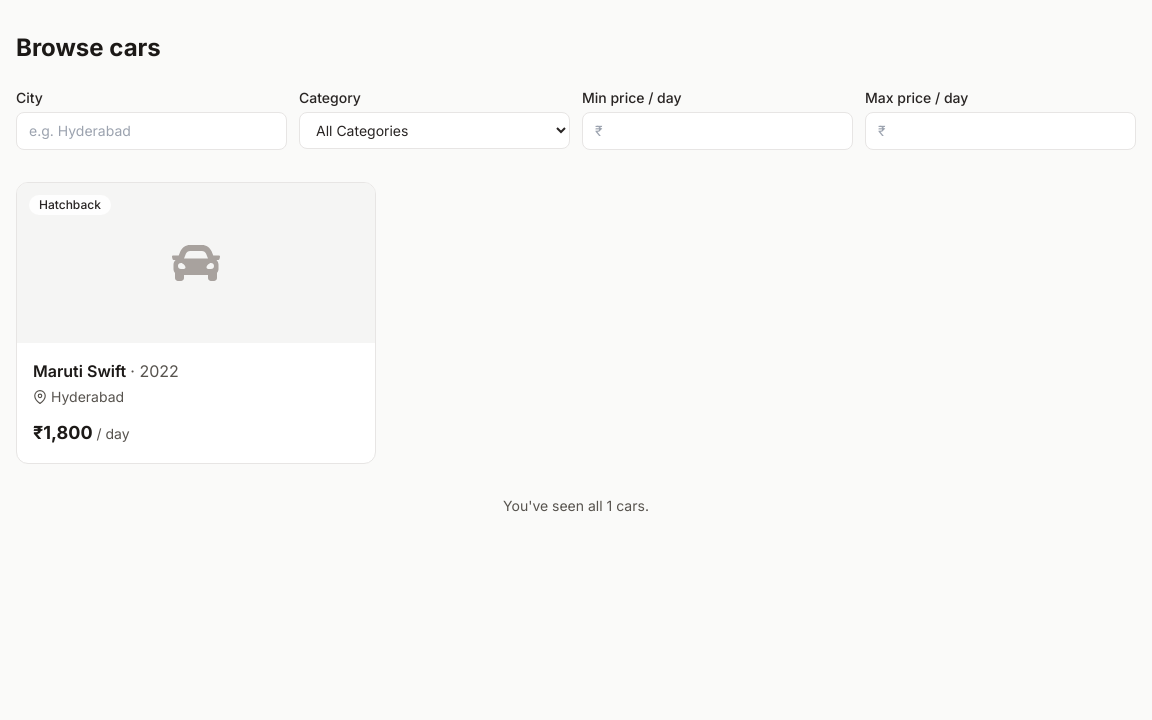
Test: BrowseCars › keeps a space the user typed while pausing mid-word
The image size is (1152, 720).
Check: the heading "Maruti Swift · 2022" is shown, box [33,361,179,381]
In the field labelled "City": (152, 131) [16,112,287,150], type "New "
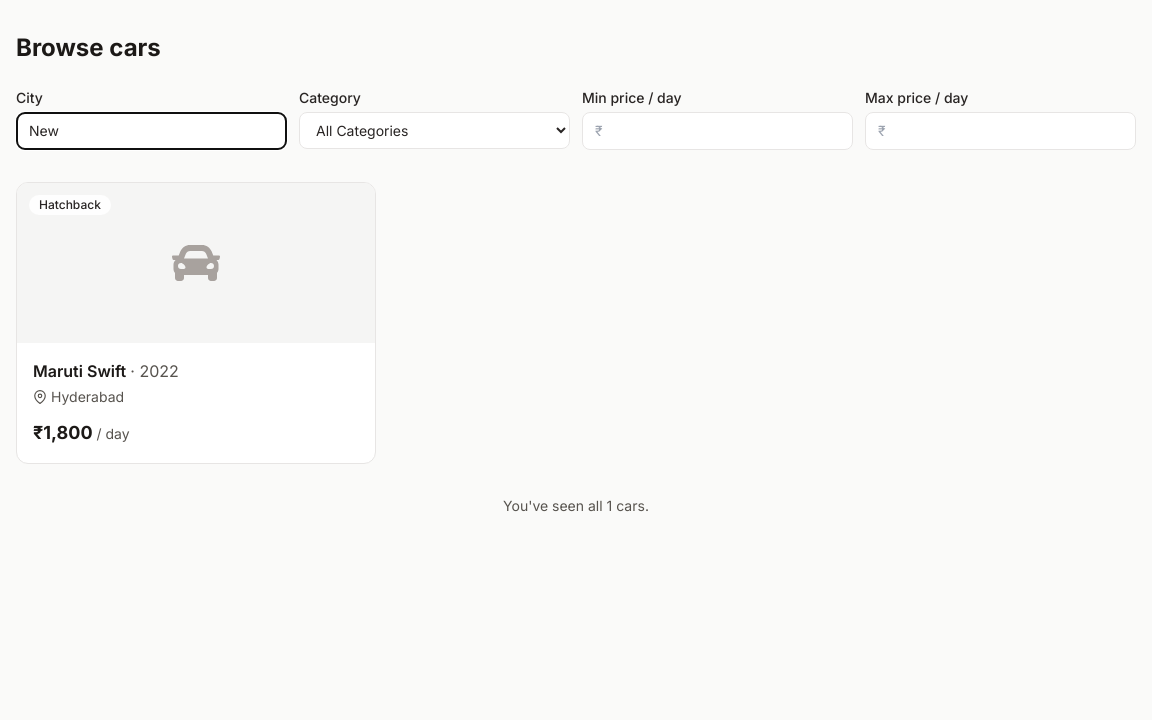
In the field labelled "City": (152, 131) [16,112,287,150], type "Delhi"
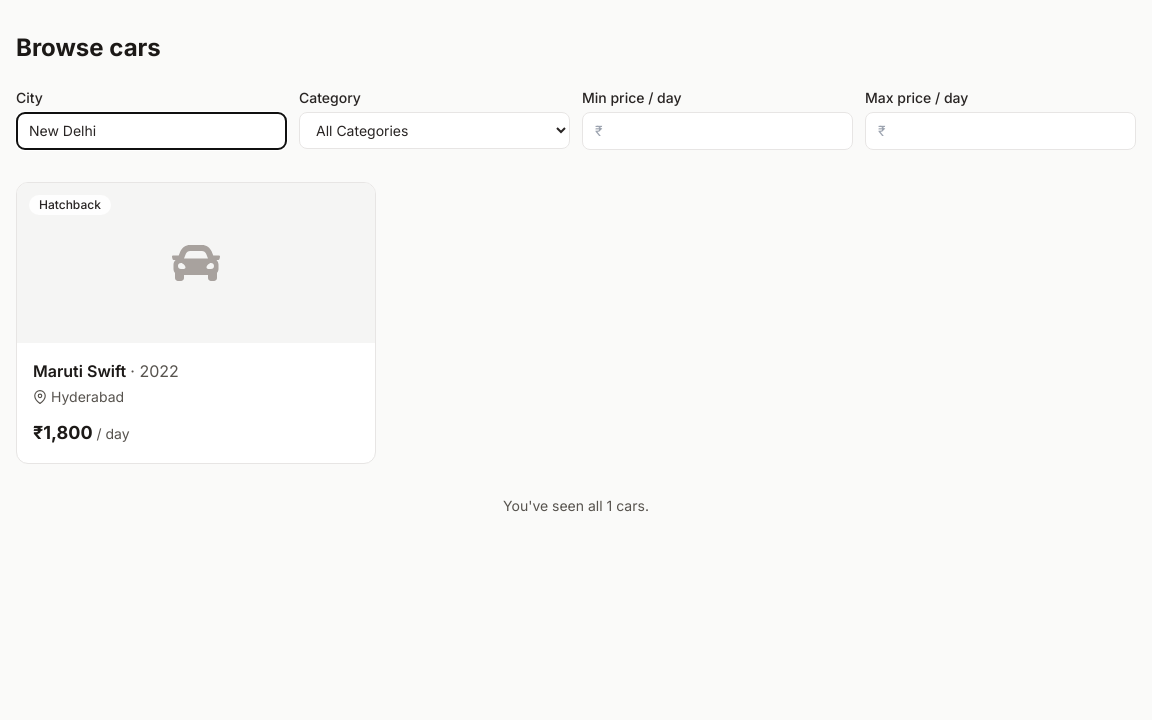
Check: the field labelled "City" holds "New Delhi", box [16,112,287,150]
